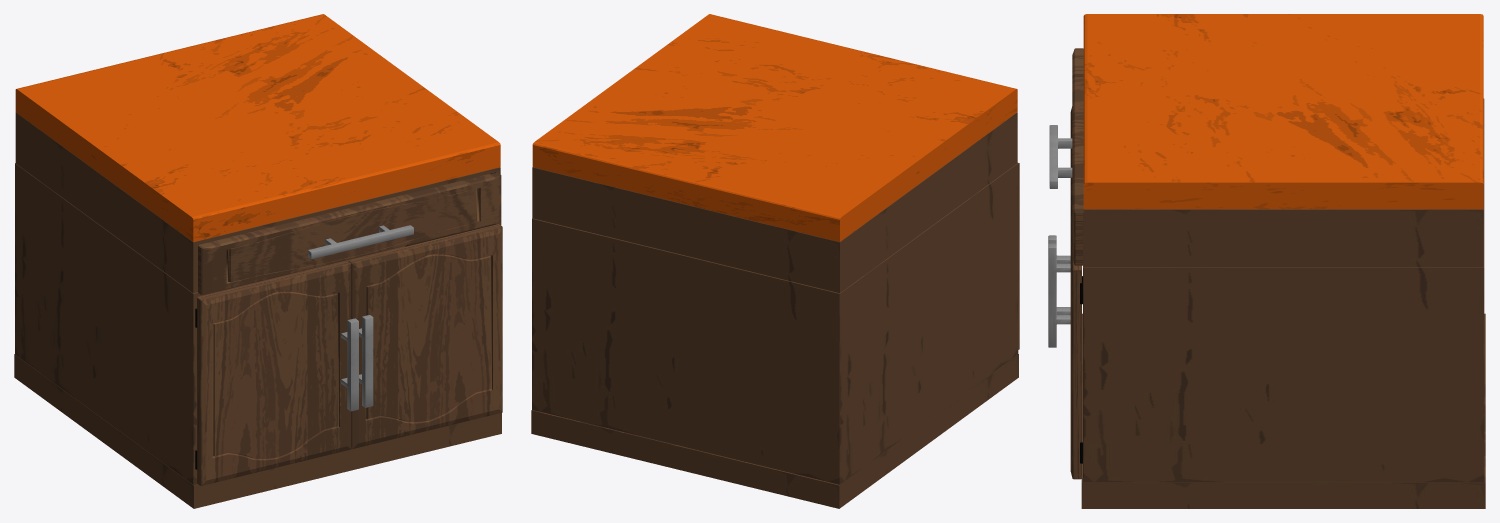
The model's file is bot - cabinet - large.fbx.
3 renders of one model, left to right at view 1: azimuth 30°, elevation 25°; view 2: azimuth 150°, elevation 25°; view 3: azimuth 270°, elevation 25°, orthographic. The views are drawn at different scales.
Visible parts, largest first — view 1: Top - Cab - Shell, cab - door right, cab - door left, drawer; view 2: Top - Cab - Shell; view 3: Top - Cab - Shell, cab - door left, drawer, cab - door right.
Part boxes in pixels (x1=…): Top - Cab - Shell: x1=14, y1=14, x2=501, y2=508; cab - door right: x1=197, y1=261, x2=358, y2=485; cab - door left: x1=348, y1=224, x2=502, y2=449; drawer: x1=198, y1=172, x2=501, y2=295; Top - Cab - Shell: x1=531, y1=14, x2=1018, y2=508; Top - Cab - Shell: x1=1080, y1=14, x2=1485, y2=508; cab - door left: x1=1048, y1=189, x2=1081, y2=479; drawer: x1=1049, y1=48, x2=1083, y2=265; cab - door right: x1=1048, y1=106, x2=1072, y2=314.
Size of the model in its own units: 10500 by 11466 by 9437.
